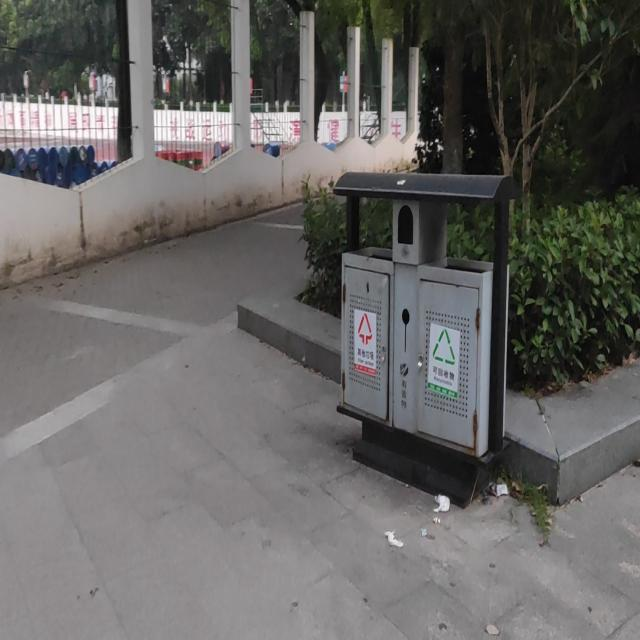ash bin: (331, 166, 516, 504)
